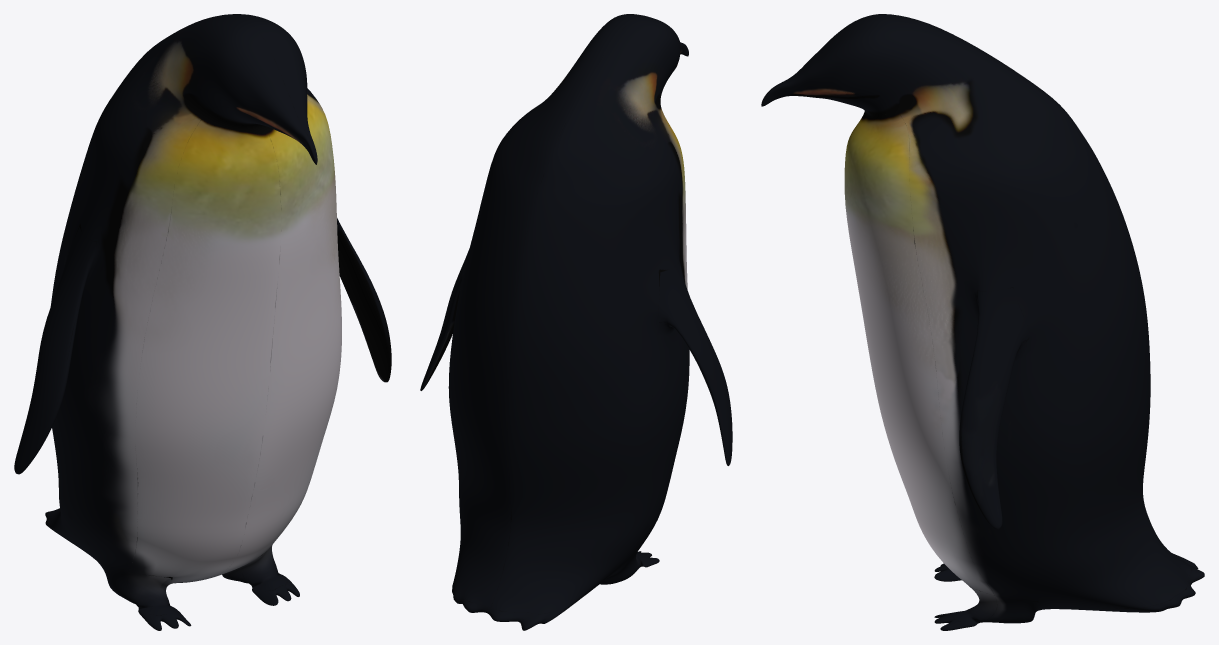
File: Penguin.FBX
3 views of the same model, side by side, from view 1: azimuth 30°, elevation 25°; view 2: azimuth 150°, elevation 25°; view 3: azimuth 270°, elevation 25° (orthographic). The views are drawn at different scales.
Visible parts, largest first — view 1: Penguin; view 2: Penguin; view 3: Penguin.
Part boxes in pixels (x1=…): Penguin: x1=14, y1=14, x2=391, y2=630; Penguin: x1=420, y1=14, x2=732, y2=630; Penguin: x1=761, y1=14, x2=1204, y2=630.
Size of the model in its own units: 74.93 by 119 by 82.87.
Materials: 1 (1 with a texture image).
